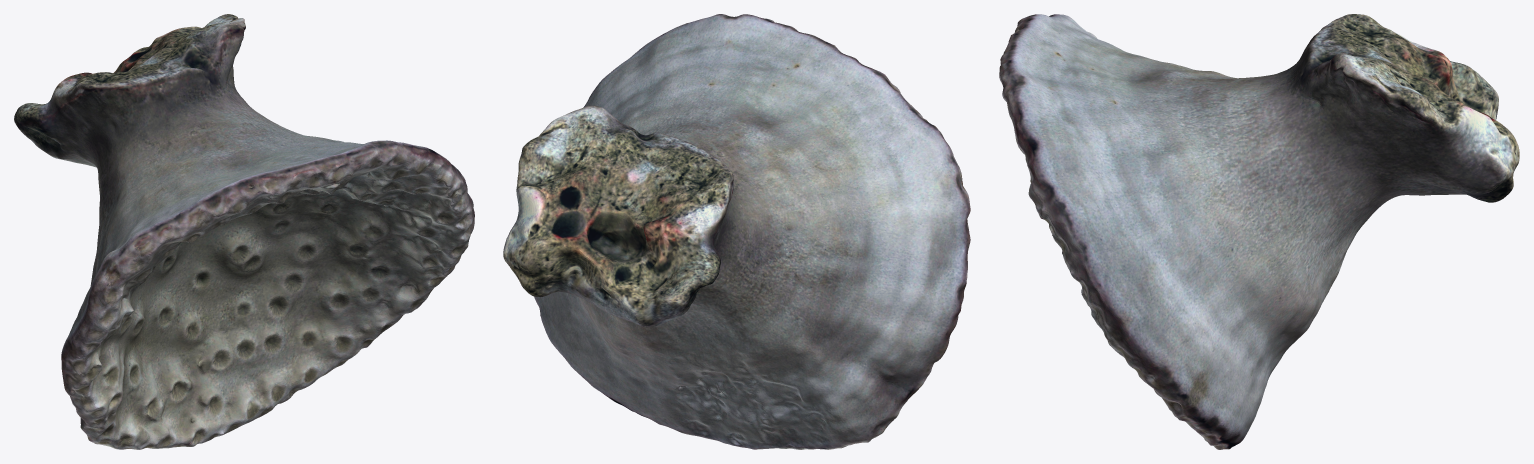
File: MZUR3D-016.glb
3 views of the same model, side by side, from view 1: azimuth 30°, elevation 25°; view 2: azimuth 150°, elevation 25°; view 3: azimuth 270°, elevation 25° (orthographic). The views are drawn at different scales.
Visible parts, largest first — view 1: MZUR3D-016; view 2: MZUR3D-016; view 3: MZUR3D-016.
Part boxes in pixels (box(x1,y1,x2,y2)): MZUR3D-016: box(14, 14, 474, 449); MZUR3D-016: box(503, 14, 970, 449); MZUR3D-016: box(999, 14, 1519, 449).
Bounding box in the file's own units: 10.78 × 8.91 × 10.41.
Materials: 1 (1 with a texture image).
